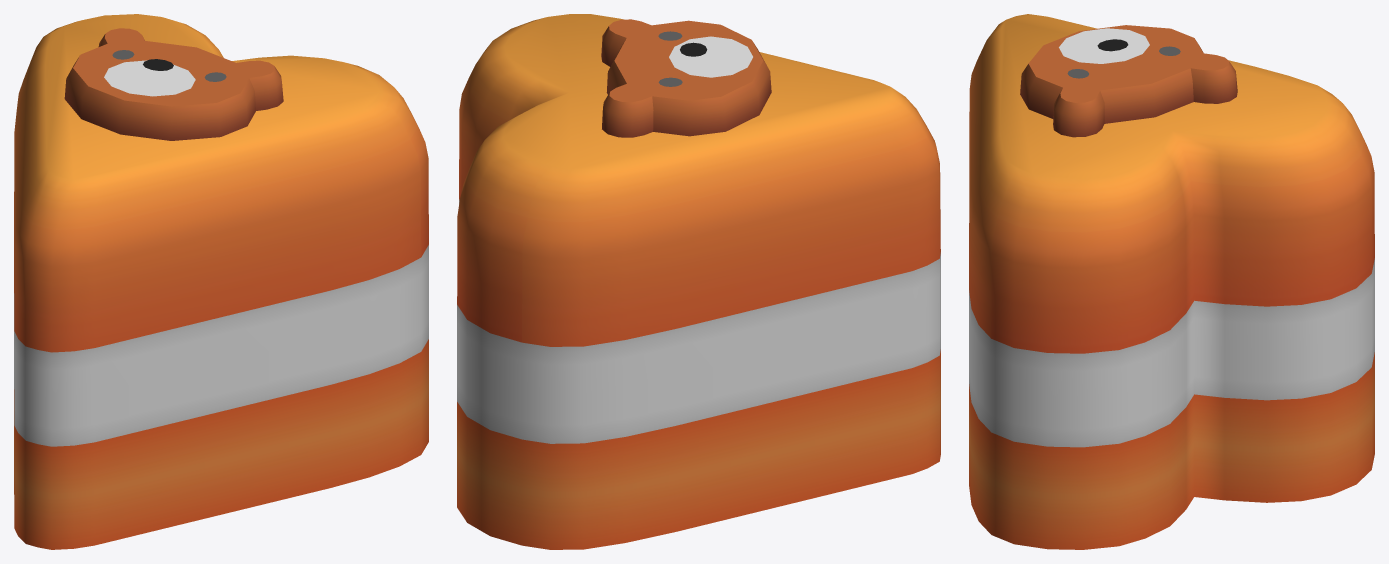
File: cake13_slice.FBX
3 views of the same model, side by side, from view 1: azimuth 30°, elevation 25°; view 2: azimuth 150°, elevation 25°; view 3: azimuth 270°, elevation 25° (orthographic). The views are drawn at different scales.
Visible parts, largest first — view 1: cake13_slice; view 2: cake13_slice; view 3: cake13_slice.
Boxes of the visible parts, x1,y1,x2,y2 form: cake13_slice: [14, 14, 428, 549]; cake13_slice: [457, 14, 940, 549]; cake13_slice: [969, 14, 1374, 549].
Size of the model in its own units: 0.0086 by 0.00774 by 0.00727.
